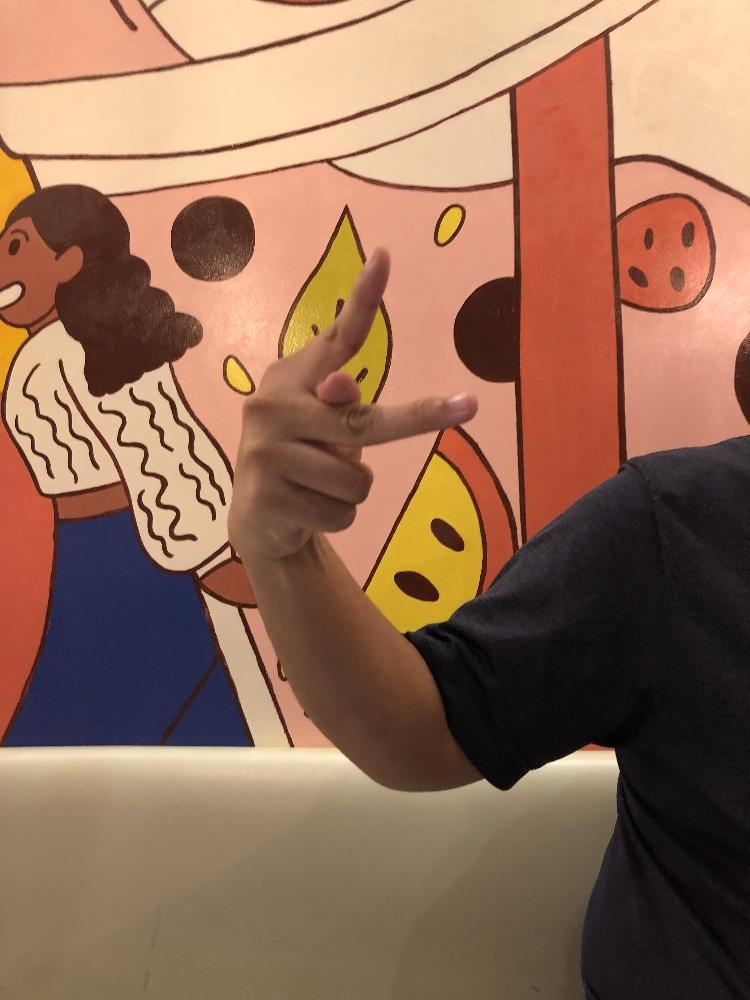k: (223, 242, 480, 564)
